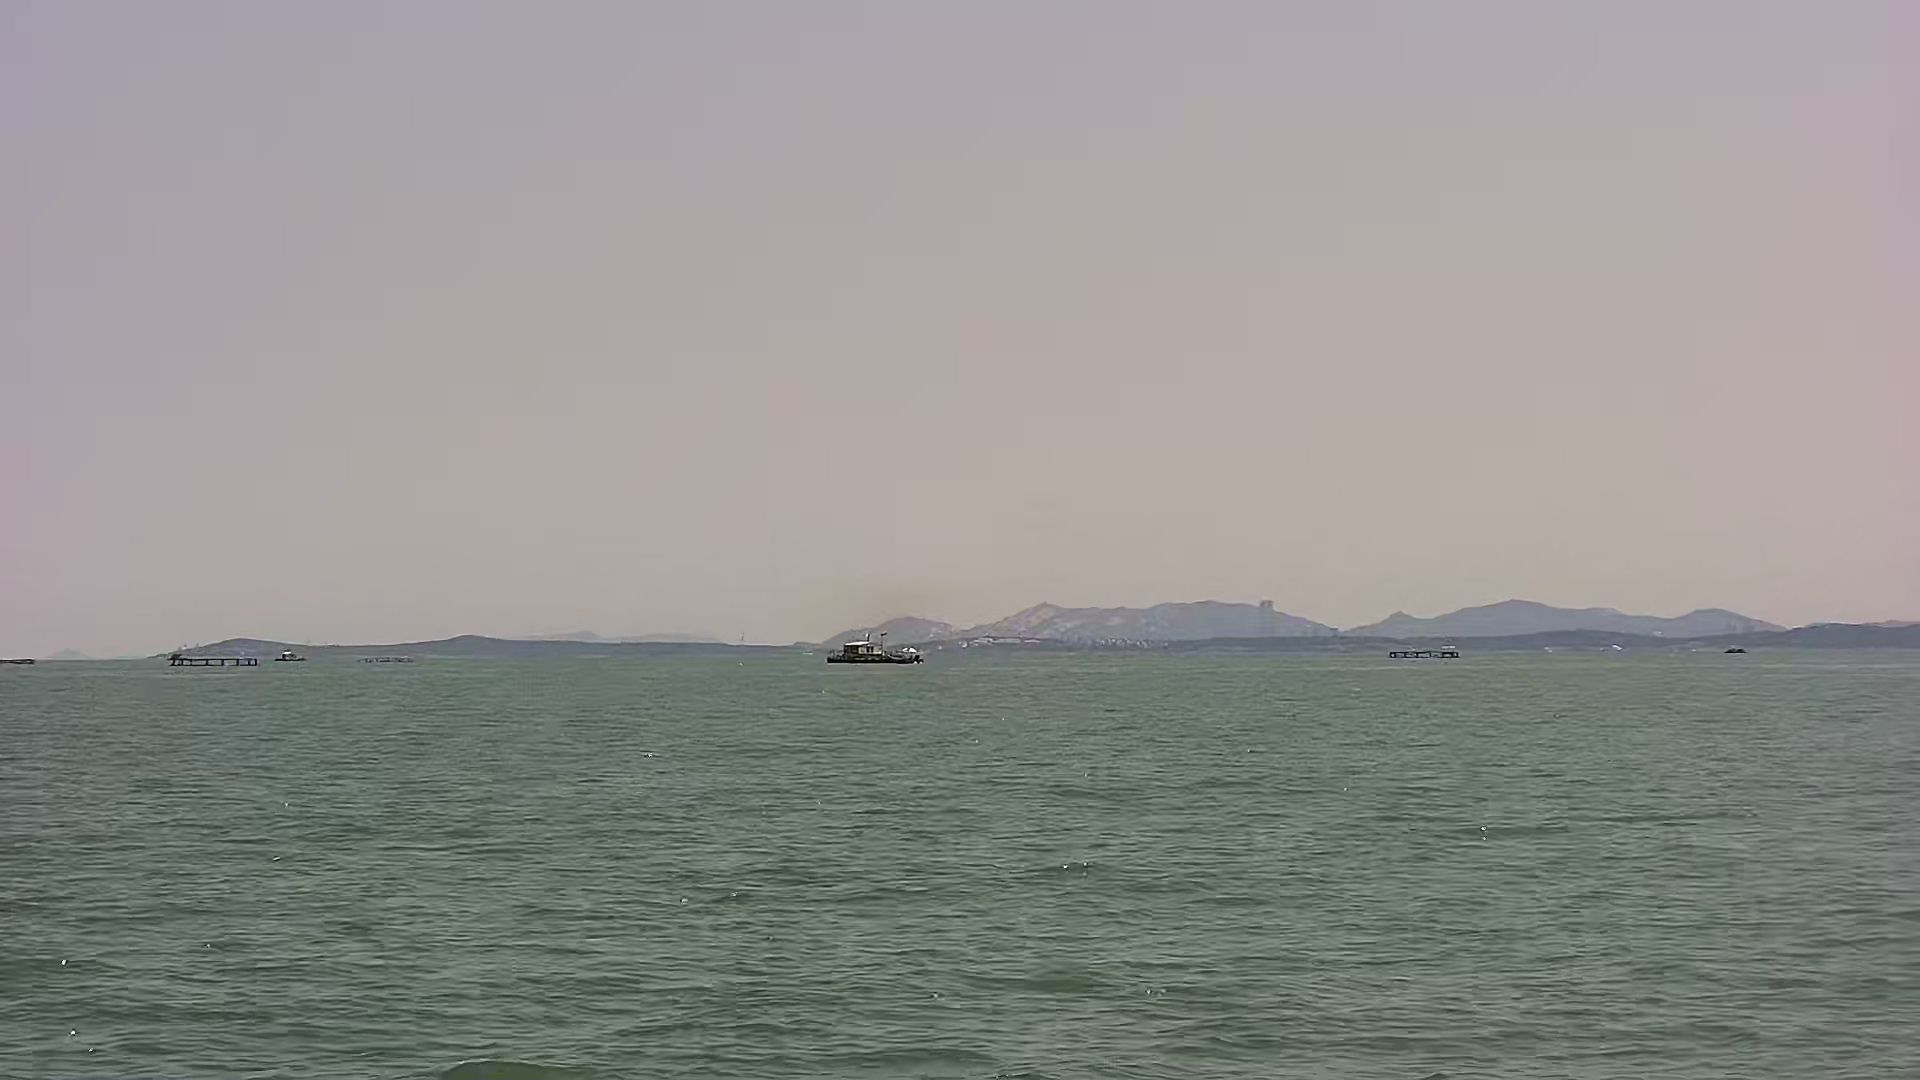platform: (1382, 620, 1474, 676), (171, 649, 258, 670)
ship: (827, 626, 928, 667)
